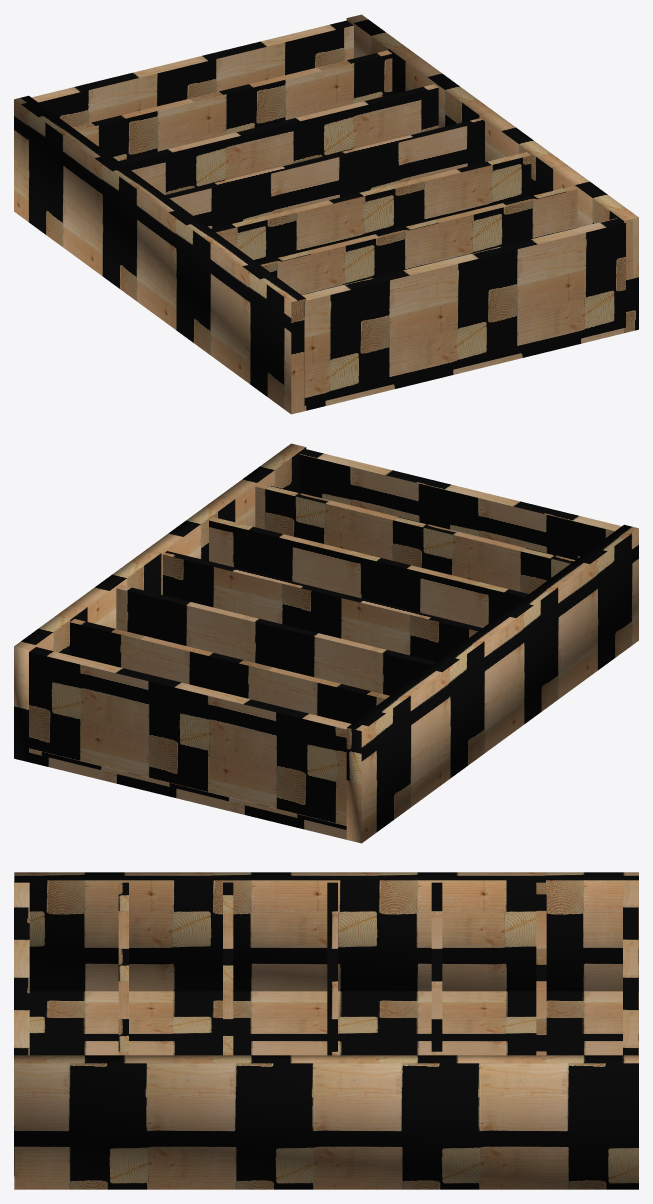
The picture shows the model from 3 angles, top to bottom: view 1: azimuth 30°, elevation 25°; view 2: azimuth 150°, elevation 25°; view 3: azimuth 270°, elevation 25°; orthographic projection. The views are drawn at different scales.
Visible parts, largest first — view 1: left_upright_Mesh.010, cube.001_Mesh.007, shelf_2_Mesh.004, shelf_5_Mesh.008, shelf_4_Mesh.002, shelf_3_Mesh.005, shelf_1_Mesh.001, cube_Mesh.003, right_upright_Mesh.012, back_piece_Mesh.011; view 2: left_upright_Mesh.010, cube_Mesh.003, cube.001_Mesh.007, shelf_3_Mesh.005, shelf_1_Mesh.001, shelf_4_Mesh.002, shelf_2_Mesh.004, shelf_5_Mesh.008, right_upright_Mesh.012, back_piece_Mesh.011; view 3: right_upright_Mesh.012, left_upright_Mesh.010, back_piece_Mesh.011, cube.001_Mesh.007, cube_Mesh.003, shelf_4_Mesh.002, shelf_3_Mesh.005, shelf_5_Mesh.008, shelf_1_Mesh.001, shelf_2_Mesh.004.
Boxes of the visible parts, bbox=[...] form: left_upright_Mesh.010: bbox=[14, 95, 306, 414]; cube.001_Mesh.007: bbox=[302, 218, 625, 405]; shelf_2_Mesh.004: bbox=[211, 152, 531, 262]; shelf_5_Mesh.008: bbox=[72, 50, 392, 160]; shelf_4_Mesh.002: bbox=[118, 84, 438, 194]; shelf_3_Mesh.005: bbox=[165, 118, 484, 228]; shelf_1_Mesh.001: bbox=[258, 186, 577, 294]; cube_Mesh.003: bbox=[31, 20, 353, 127]; right_upright_Mesh.012: bbox=[346, 14, 638, 333]; back_piece_Mesh.011: bbox=[306, 328, 623, 410]; left_upright_Mesh.010: bbox=[346, 524, 638, 843]; cube_Mesh.003: bbox=[29, 647, 351, 825]; cube.001_Mesh.007: bbox=[299, 449, 621, 559]; shelf_3_Mesh.005: bbox=[162, 551, 482, 661]; shelf_1_Mesh.001: bbox=[255, 483, 575, 593]; shelf_4_Mesh.002: bbox=[116, 585, 435, 695]; shelf_2_Mesh.004: bbox=[209, 517, 528, 627]; shelf_5_Mesh.008: bbox=[70, 619, 389, 723]; right_upright_Mesh.012: bbox=[14, 443, 306, 762]; back_piece_Mesh.011: bbox=[29, 748, 346, 839]; right_upright_Mesh.012: bbox=[14, 1055, 638, 1189]; left_upright_Mesh.010: bbox=[14, 872, 638, 991]; back_piece_Mesh.011: bbox=[29, 991, 638, 1055]; cube.001_Mesh.007: bbox=[14, 882, 29, 1175]; cube_Mesh.003: bbox=[623, 882, 638, 1055]; shelf_4_Mesh.002: bbox=[431, 882, 442, 1055]; shelf_3_Mesh.005: bbox=[327, 882, 337, 1055]; shelf_5_Mesh.008: bbox=[536, 882, 546, 1055]; shelf_1_Mesh.001: bbox=[118, 882, 128, 1055]; shelf_2_Mesh.004: bbox=[223, 882, 233, 1055].
Bounding box in the file's own units: 1.3 × 0.4009 × 1.8.
